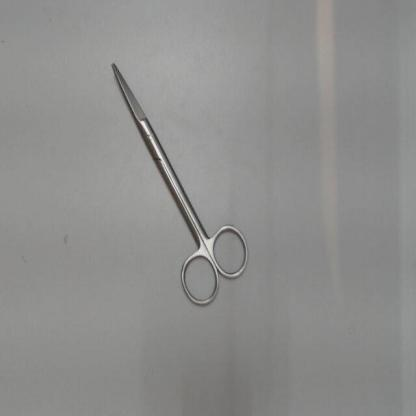Curved Mayo Scissors: (101, 57, 257, 314)
